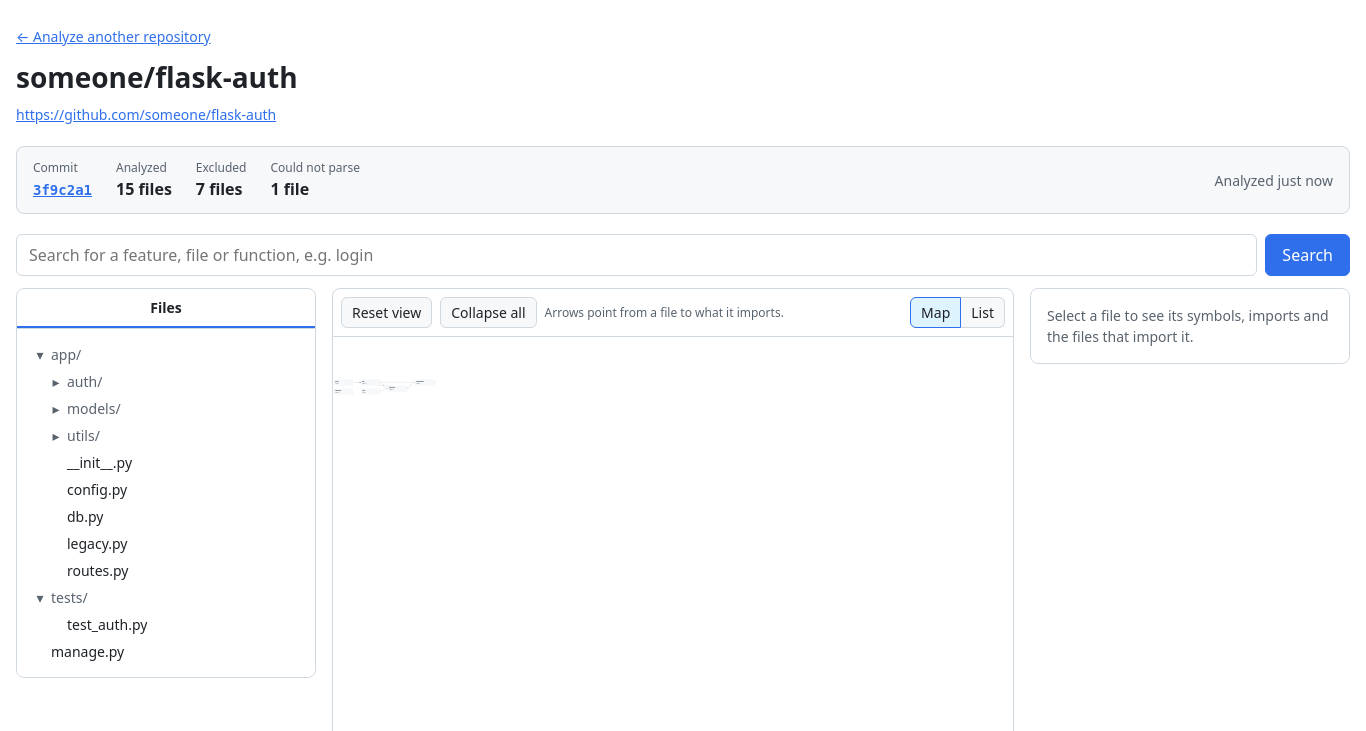
Test: AnalysisPage map › switches between the map and the list view
Click the button "List". click: (983, 312)
box: left=961, top=297, right=1005, bottom=328
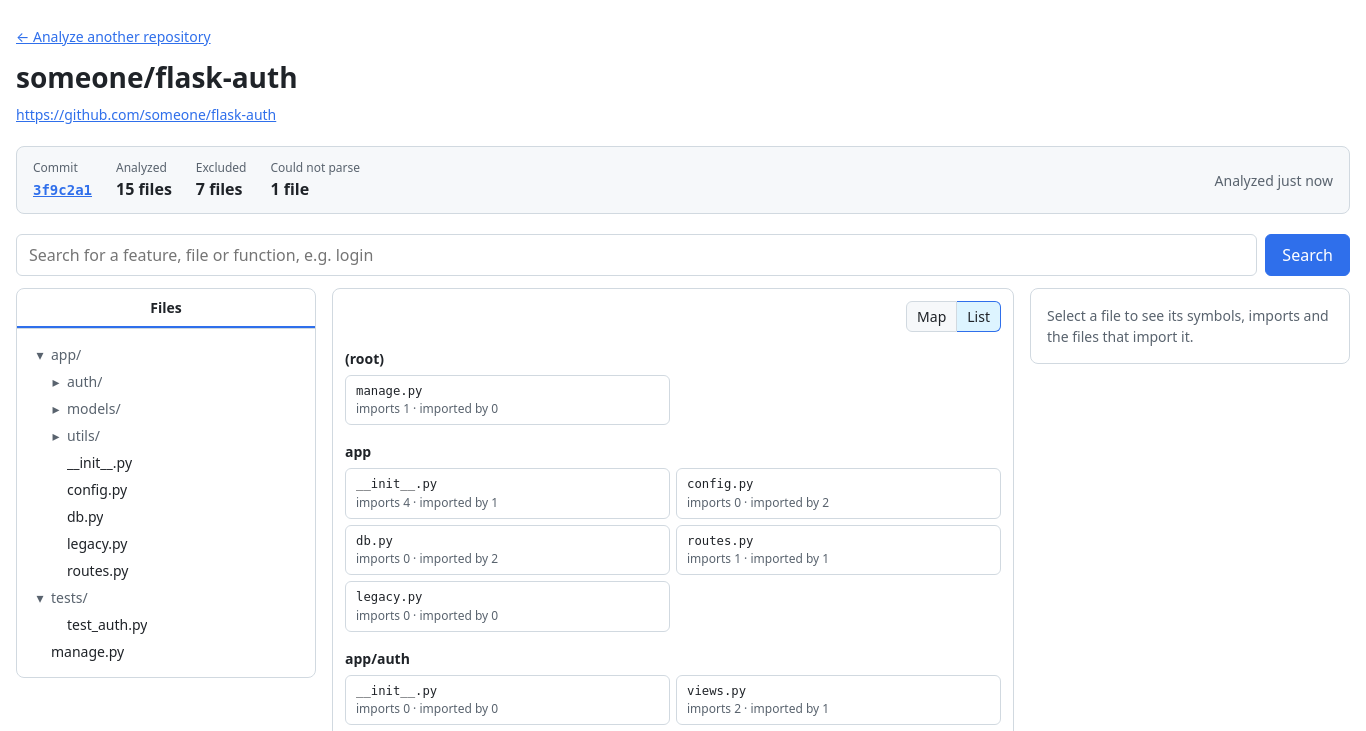
Click the button "Map". click: (932, 316)
box: left=906, top=301, right=957, bottom=332
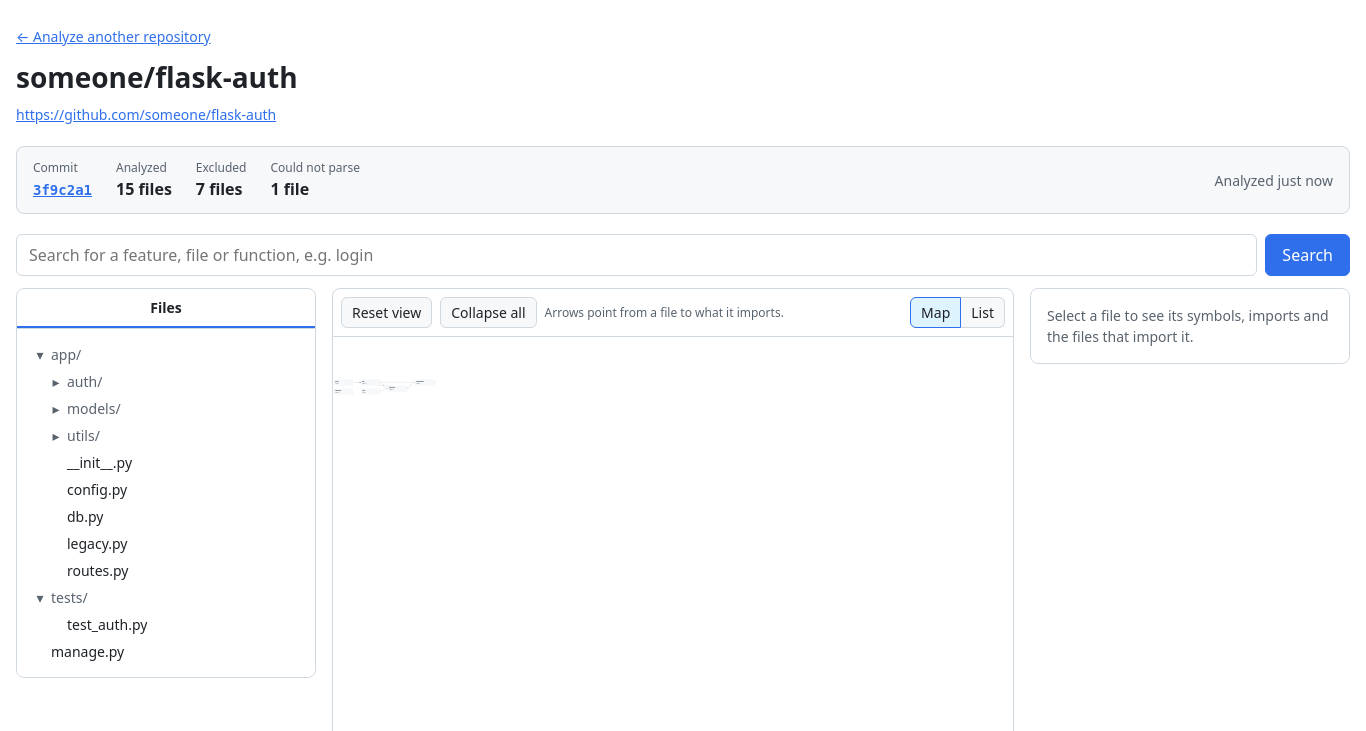
Now the button "Reset view" is shown, box left=341, top=297, right=432, bottom=328
